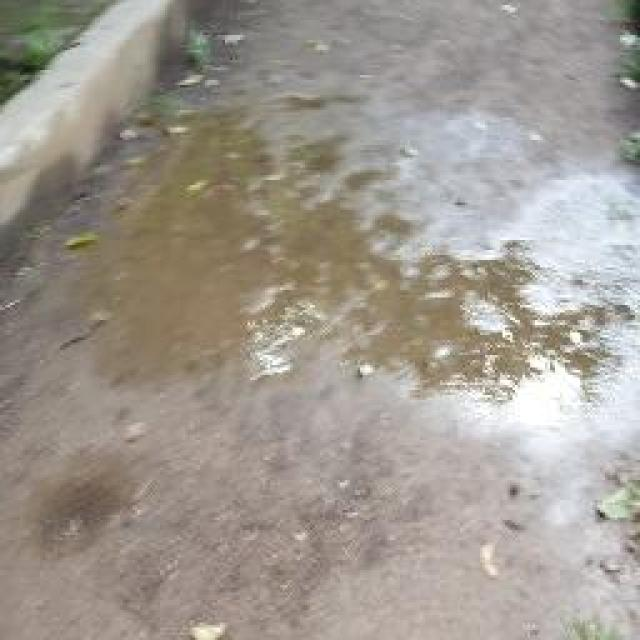stagnation: (110, 50, 560, 420)
